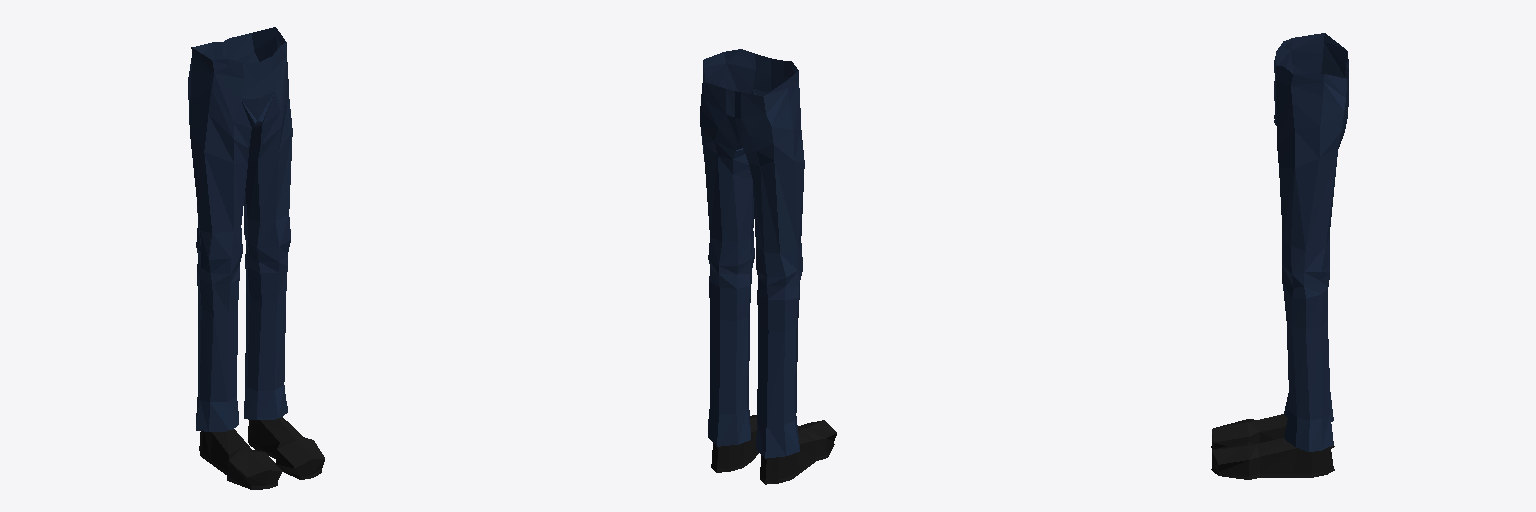
Rendered from pi_Porl_Legs.obj.
3 views of the same model, side by side, from view 1: azimuth 30°, elevation 25°; view 2: azimuth 150°, elevation 25°; view 3: azimuth 270°, elevation 25° (orthographic).
Visible parts, largest first — view 1: Pants_Plane.021, Character_Mesh_Plane.001; view 2: Pants_Plane.021, Character_Mesh_Plane.001; view 3: Pants_Plane.021, Character_Mesh_Plane.001.
Boxes of the visible parts, <box> form: Pants_Plane.021: <box>188,27,292,431</box>; Character_Mesh_Plane.001: <box>199,417,324,489</box>; Pants_Plane.021: <box>700,49,804,458</box>; Character_Mesh_Plane.001: <box>711,415,836,484</box>; Pants_Plane.021: <box>1274,33,1348,451</box>; Character_Mesh_Plane.001: <box>1211,414,1334,479</box>.
Size of the model in its own units: 0.9103 by 3.79 by 1.17.